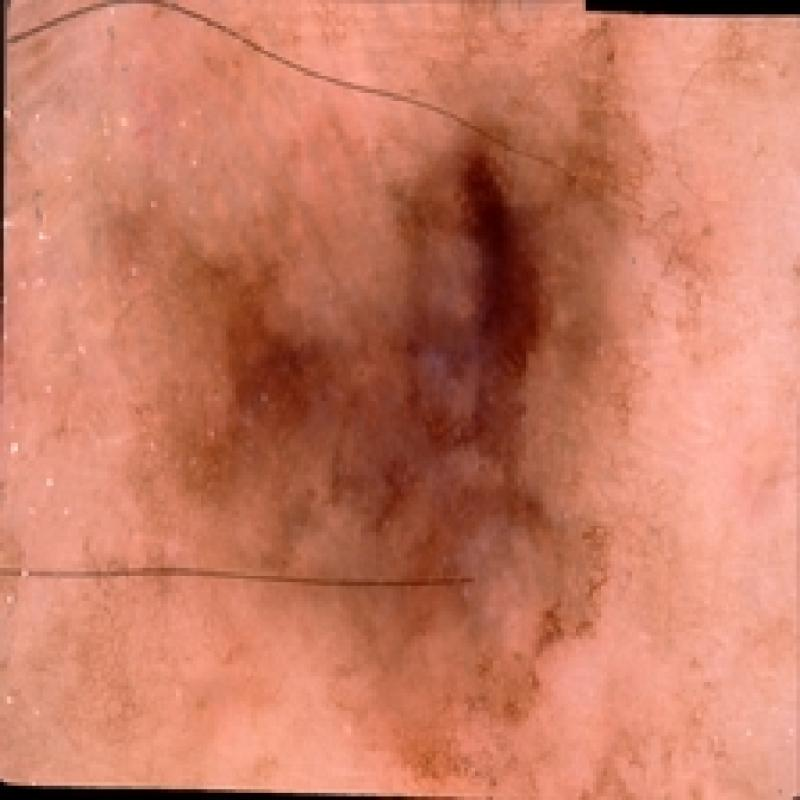malignant: (103, 101, 666, 709)
